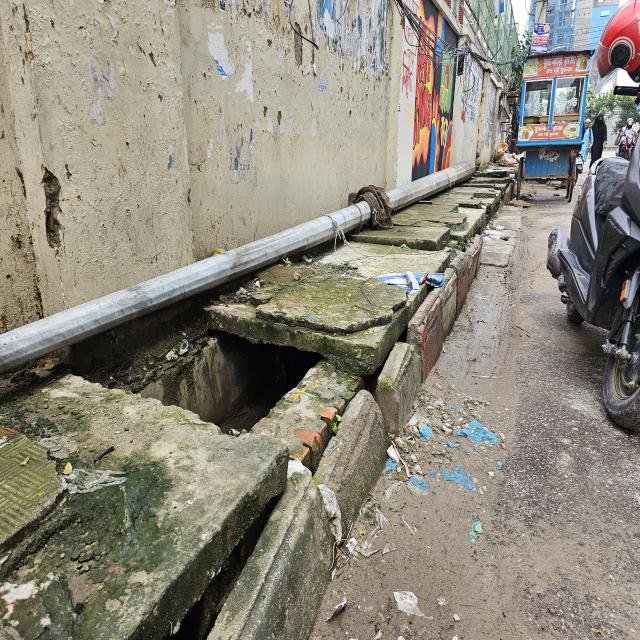drain_inlet: (135, 327, 327, 438)
